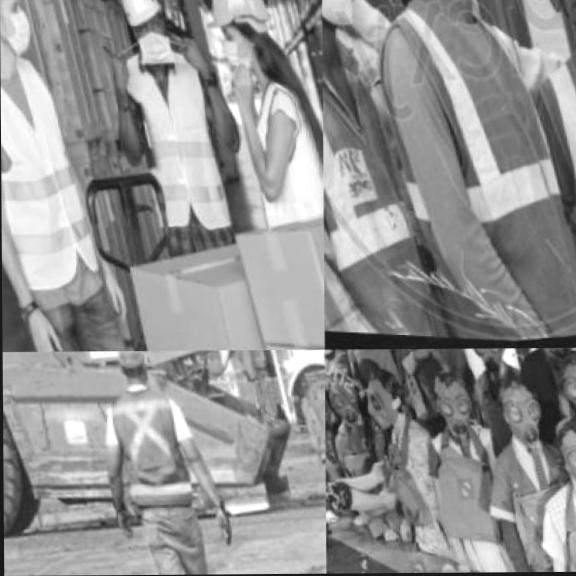safety_vest: (362, 0, 576, 348), (324, 37, 426, 342), (0, 56, 98, 308), (110, 53, 226, 236), (227, 76, 324, 222), (529, 34, 576, 333), (97, 386, 188, 517)
